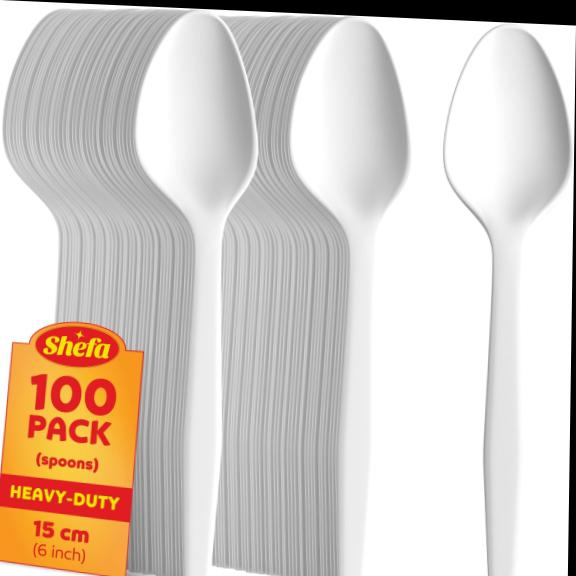Plastik: (444, 25, 570, 575), (136, 11, 257, 575), (290, 18, 408, 575)
